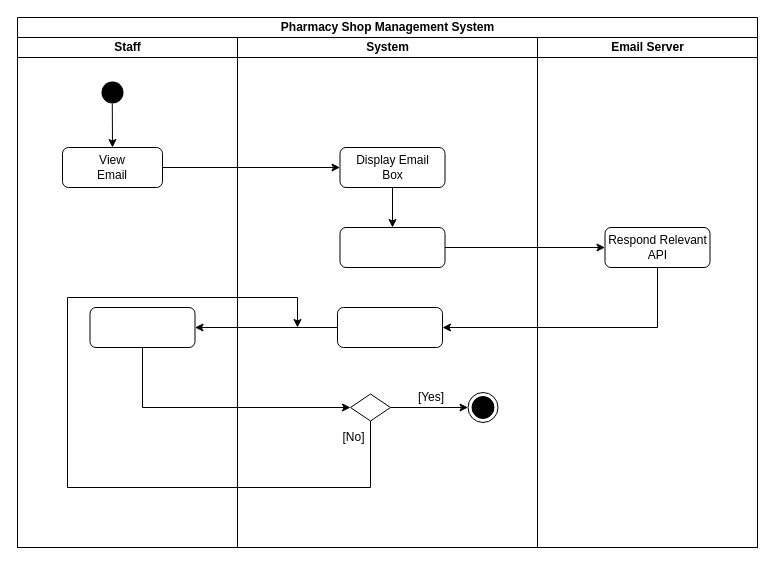
Image size: 775x565. Some labels were removed from this diagram. The shapes that lost their labels are listed below. From the top down, each one's box as (x1, y1, x2, y2) in pixels, then its label:
(339, 226, 445, 268): Request Emails
(89, 306, 195, 348): Choose the Email
(336, 306, 442, 348): Display All Email
